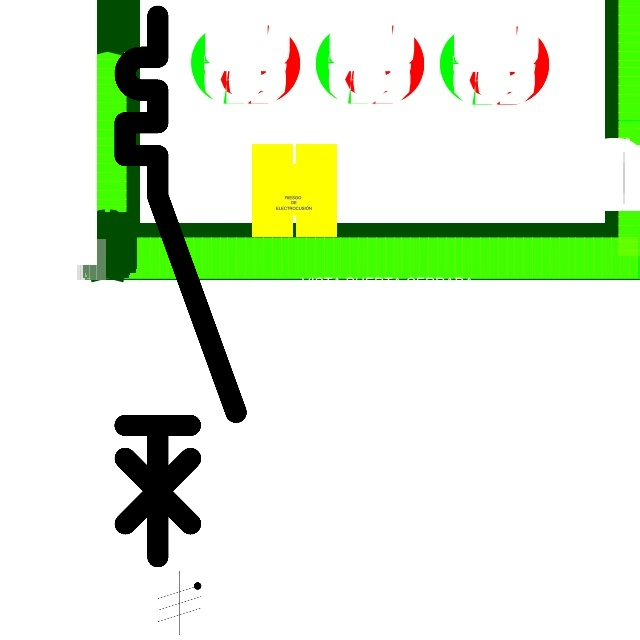interruptor_termomagnetico: (111, 2, 250, 571)
